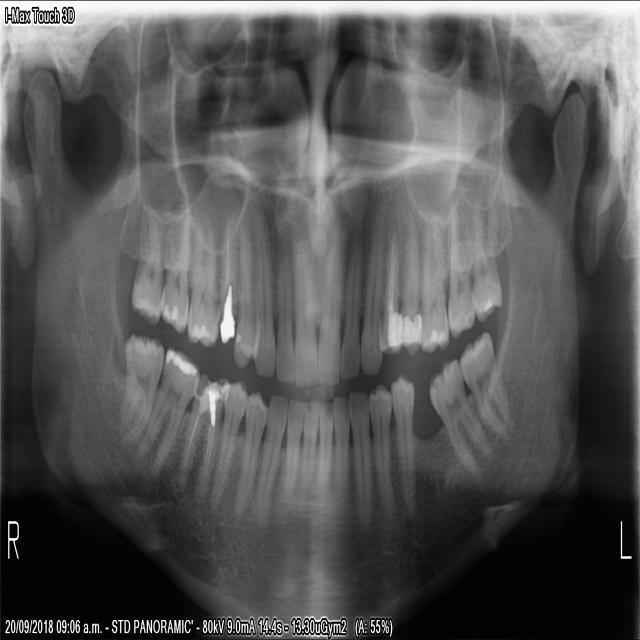LCD: (351, 392, 372, 519)
LCU: (360, 217, 385, 378)
LID: (313, 395, 334, 495), (332, 392, 350, 489)
LIU: (317, 239, 346, 390), (340, 237, 363, 379)
LMD: (427, 359, 490, 477), (457, 328, 514, 440)
LMU: (467, 195, 503, 325), (420, 212, 452, 357), (447, 198, 476, 339)
LPMD: (390, 372, 416, 518), (369, 380, 395, 515)
LPMU: (399, 220, 420, 357), (380, 220, 400, 357)
RCD: (253, 397, 287, 519)
RCU: (252, 204, 275, 383)
RID: (277, 397, 306, 502), (298, 400, 321, 493)
RIU: (293, 235, 319, 394), (275, 245, 296, 388)
RMD: (136, 345, 199, 477), (173, 370, 229, 499), (116, 334, 164, 453)
RMU: (185, 215, 218, 350), (129, 212, 164, 325), (160, 209, 191, 335)
RPMD: (204, 377, 249, 509), (234, 387, 266, 518)
RPMU: (232, 215, 254, 372), (217, 212, 238, 348)
